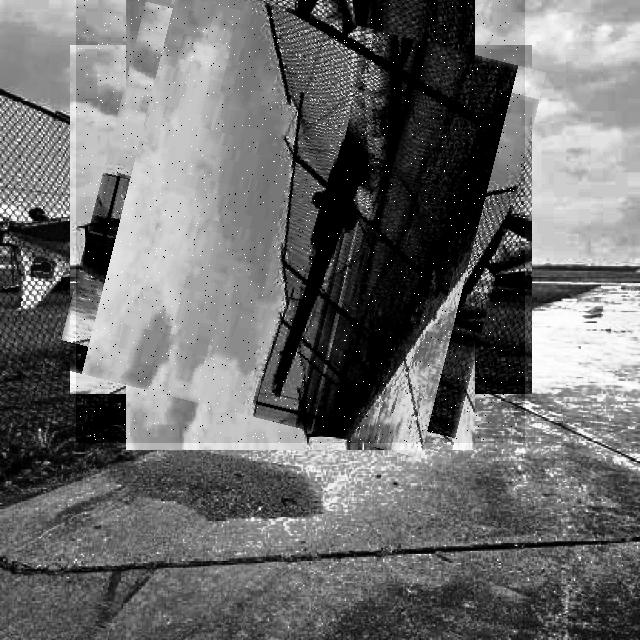anomaly-fence: (76, 0, 525, 443)
